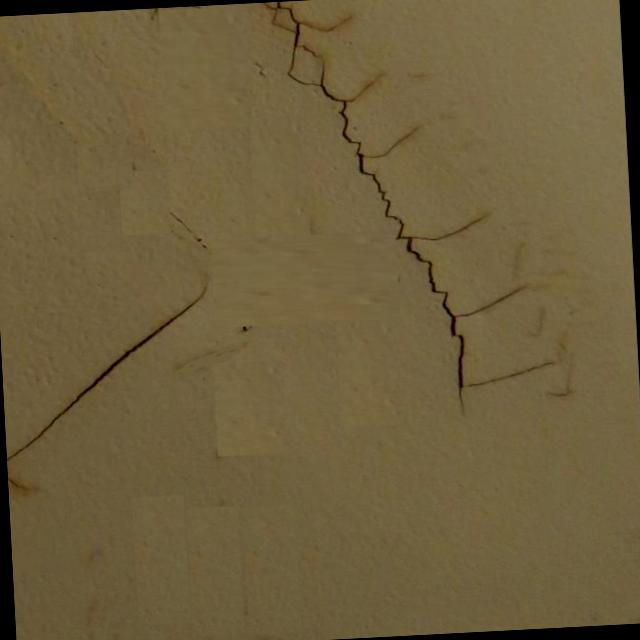crack: (291, 1, 552, 395), (1, 296, 212, 458)
